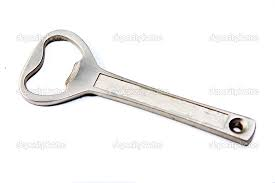bottleopener: (16, 29, 256, 146)
